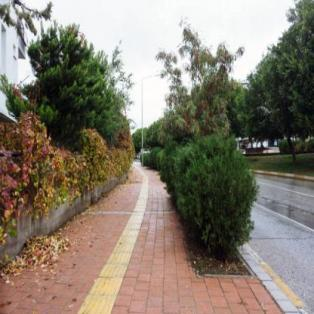Podoctatil: (70, 152, 168, 314)
